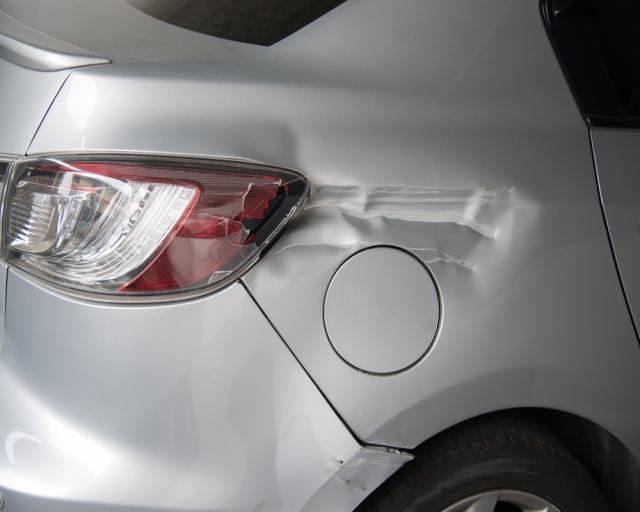dent: (230, 117, 542, 314)
lamp broken: (0, 154, 309, 303)
scratch: (316, 449, 406, 494)
